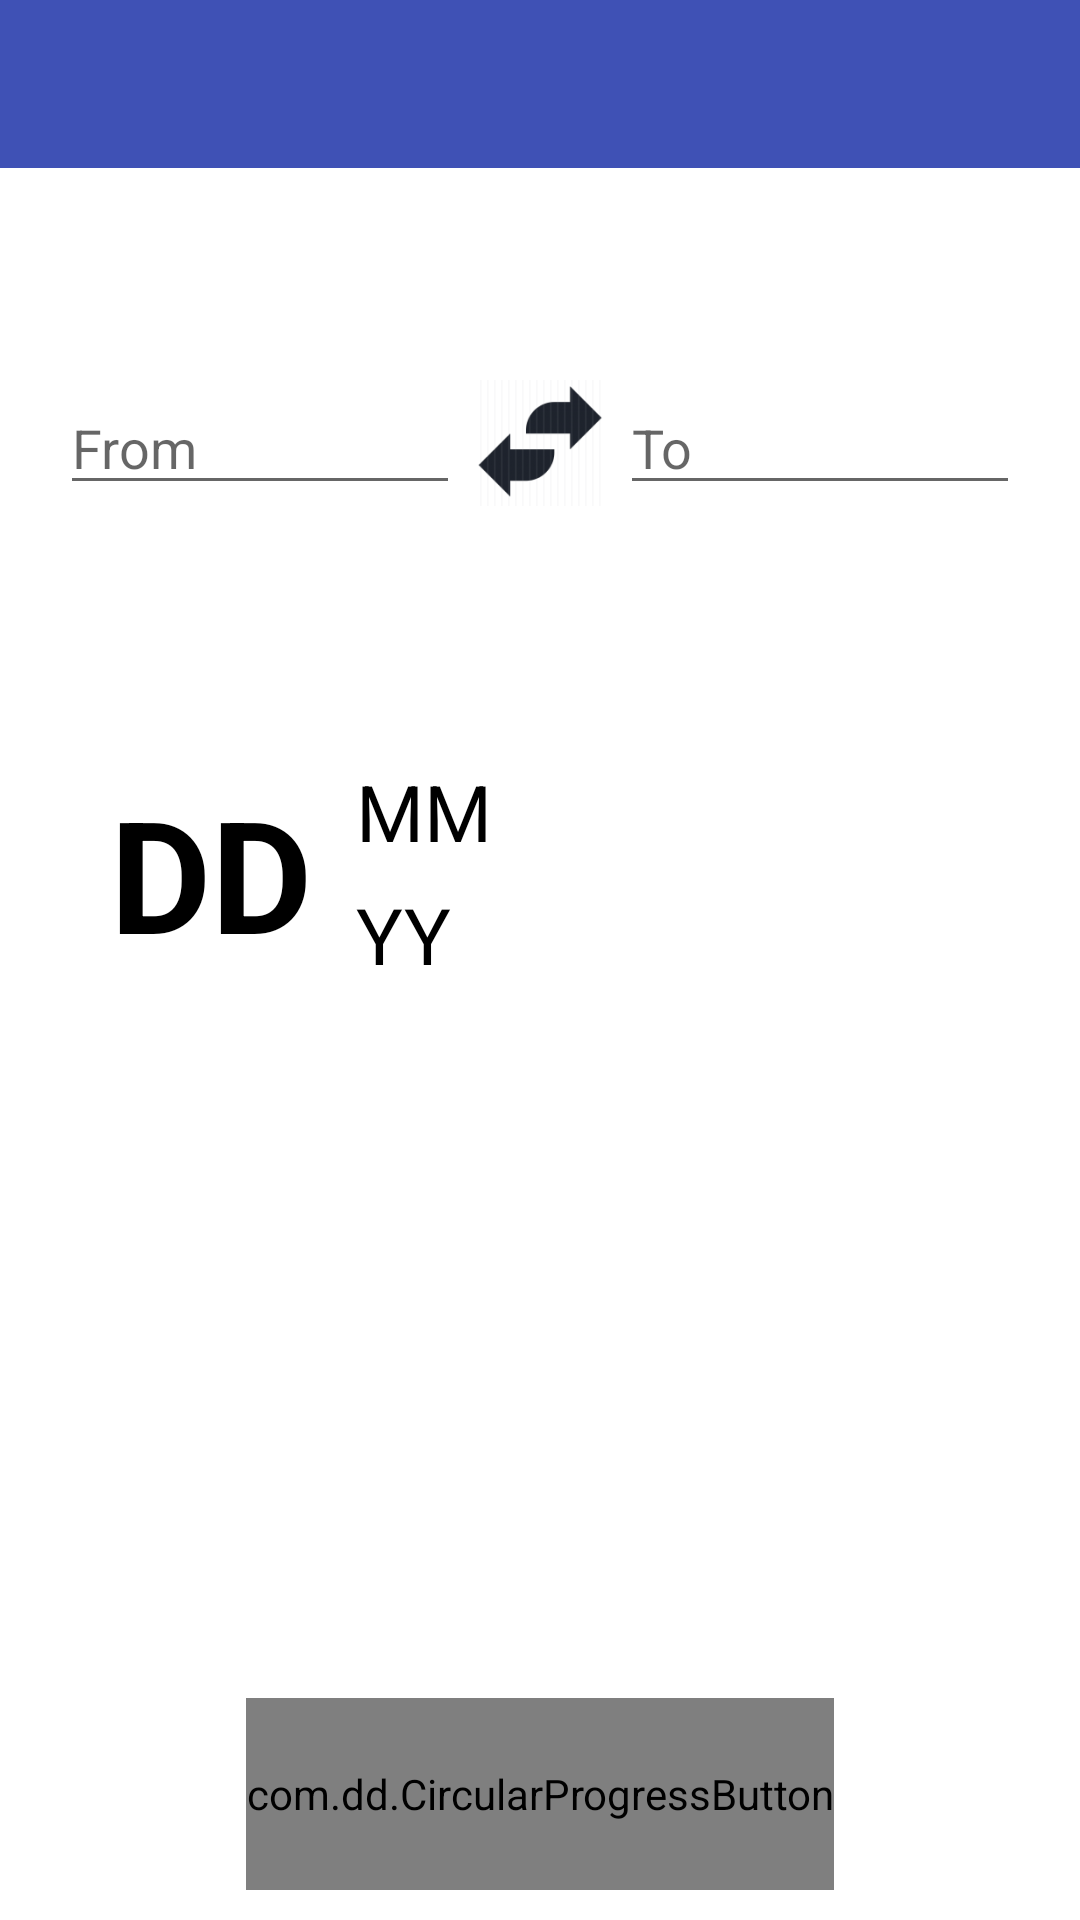

Named icons in this screenshot (1080w x 1920h) and their bounding boxes, (left=x1, top=y1, right=x2, bottom=y2):
reverse: (left=478, top=386, right=602, bottom=497)
